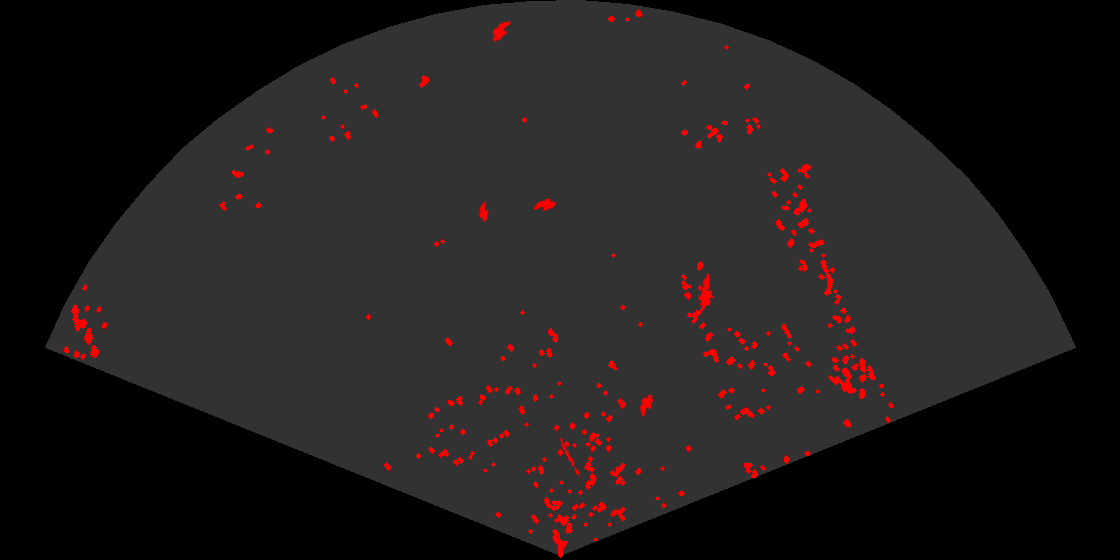AUV: (491, 19, 512, 43), (531, 197, 558, 213), (638, 393, 655, 418), (477, 200, 490, 224)
chain: (557, 435, 583, 478)
frogman: (696, 271, 716, 311)
